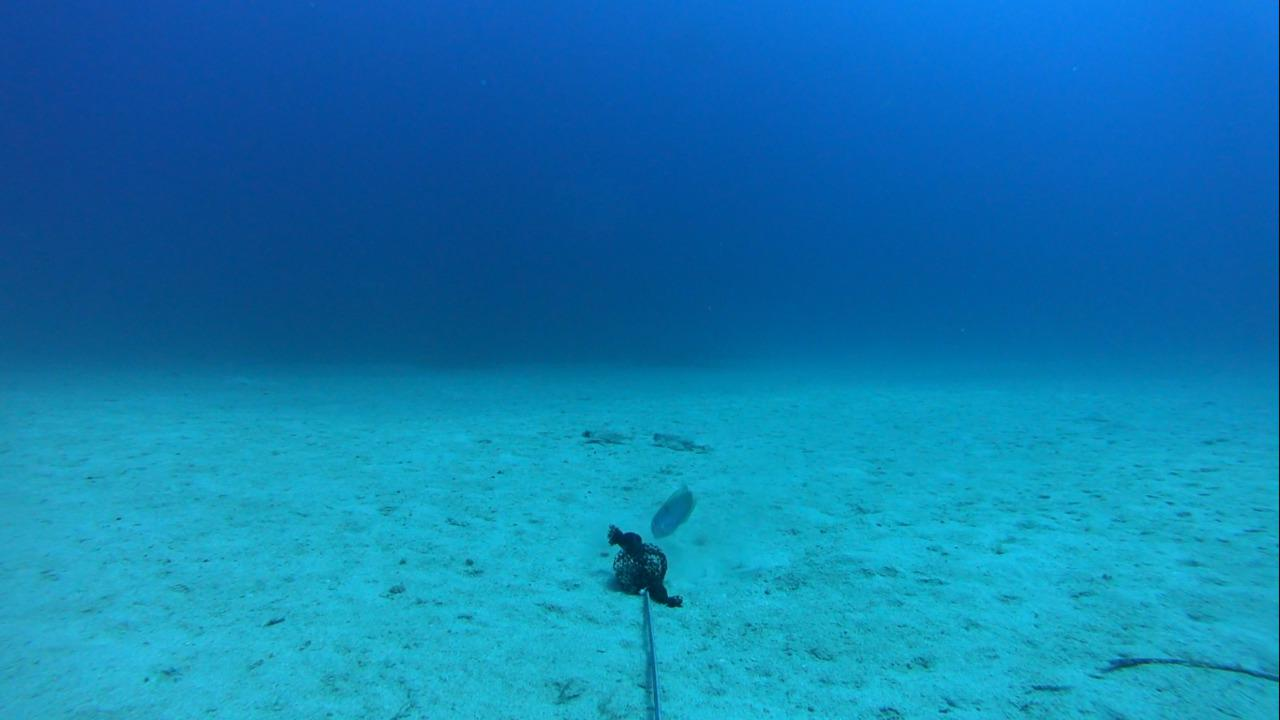dactylopterus: (643, 428, 703, 456), (570, 421, 621, 446)
raor: (645, 478, 701, 546)
